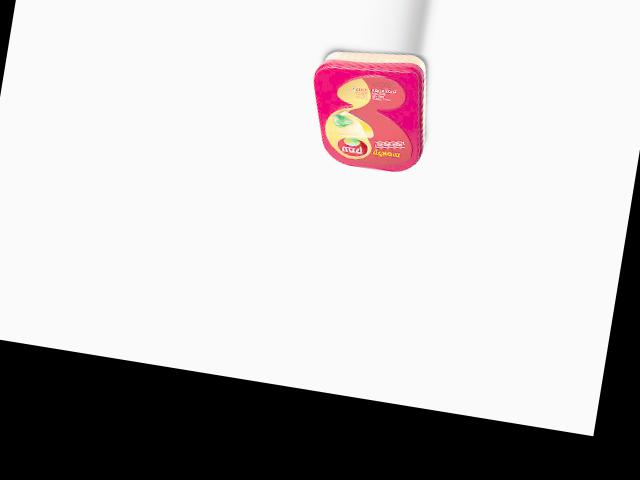cheese: (300, 40, 438, 177)
